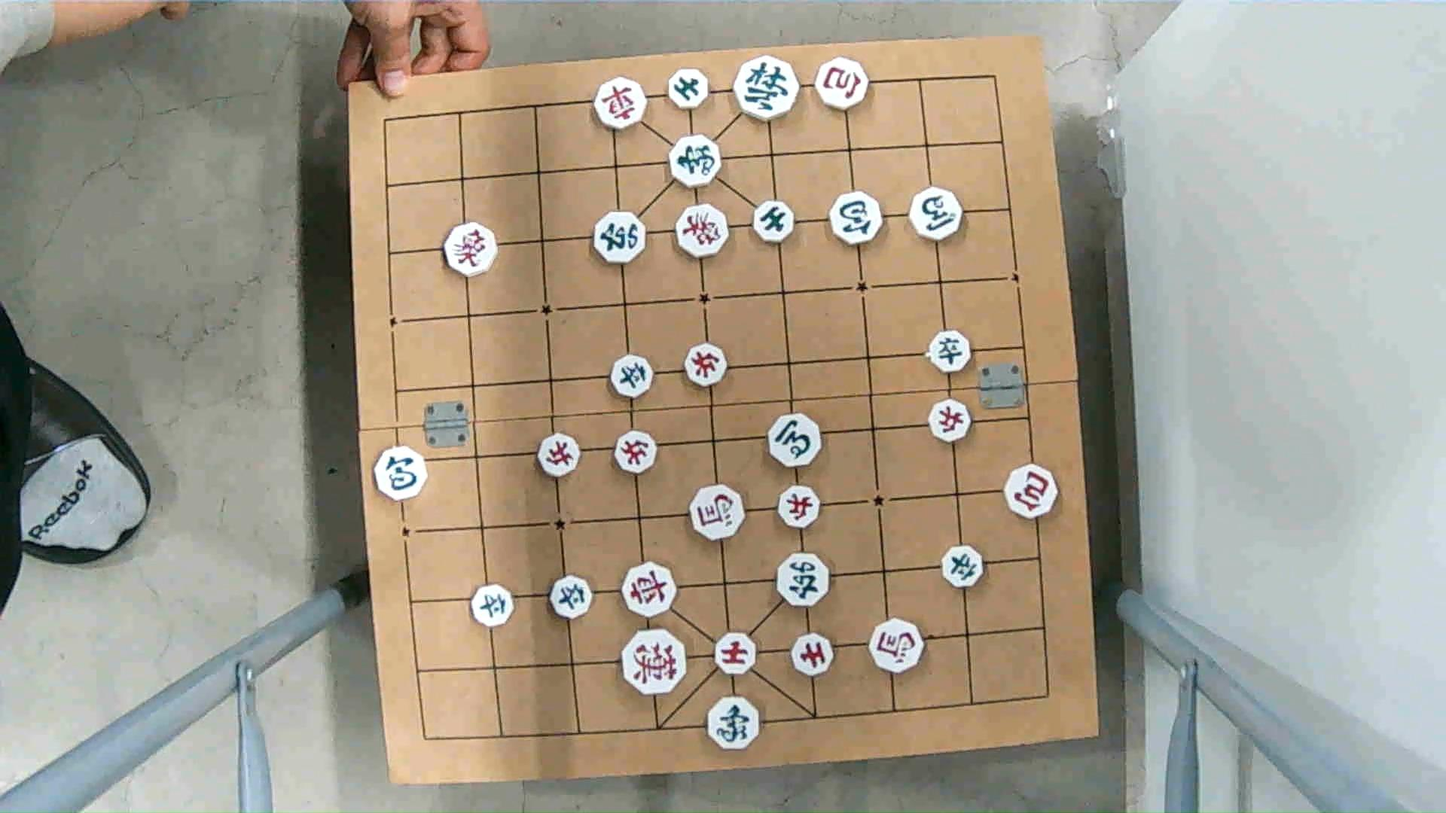cha_green: (772, 556, 830, 606), (593, 213, 647, 263)
cha_red: (623, 562, 676, 617), (593, 78, 646, 129)
jol_green: (609, 353, 655, 400), (926, 330, 975, 369), (472, 583, 514, 628), (549, 577, 593, 618), (941, 548, 987, 585)
jol_red: (612, 431, 657, 472), (682, 344, 728, 384), (777, 486, 823, 526), (539, 435, 582, 477), (927, 402, 974, 440)
ma_green: (910, 186, 961, 242), (765, 417, 823, 465)
ma_red: (688, 487, 748, 538), (869, 620, 926, 672)
po_green: (373, 448, 429, 499), (826, 192, 883, 241)
po_red: (1003, 468, 1061, 517), (816, 59, 869, 109)
sa_green: (751, 202, 796, 241), (670, 70, 710, 108)
sa_red: (713, 633, 760, 676), (790, 633, 832, 674)
sang_green: (669, 136, 724, 185), (709, 696, 760, 748)
sang_red: (444, 224, 498, 275), (675, 206, 728, 256)
wang_green: (735, 58, 797, 117)
wang_red: (624, 635, 685, 693)
